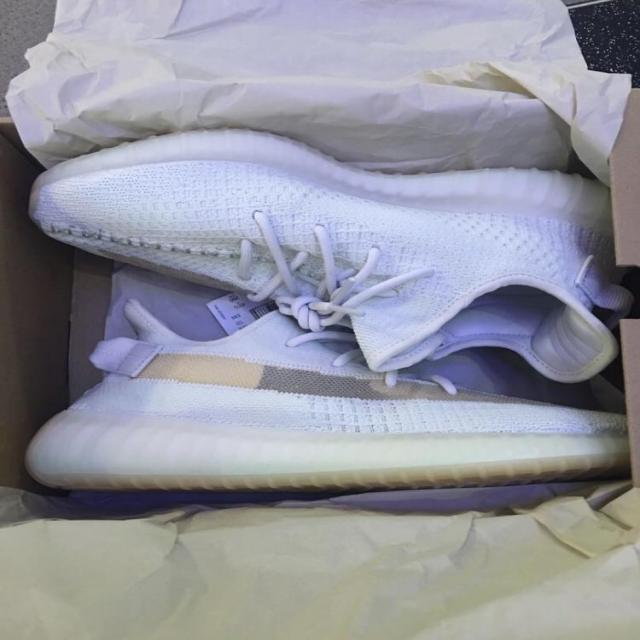shoe: (18, 116, 635, 383), (6, 289, 640, 500)
